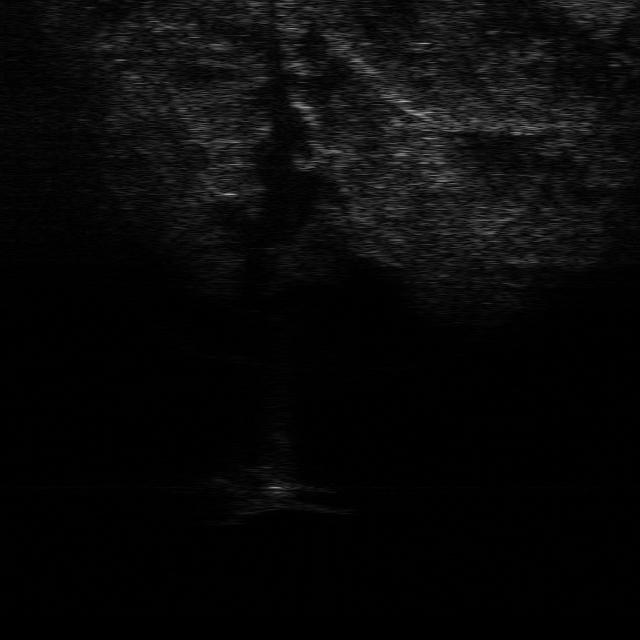plane: (212, 462, 348, 520)
